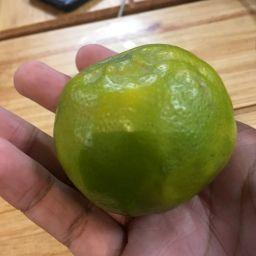Unripe: (56, 45, 235, 220)
